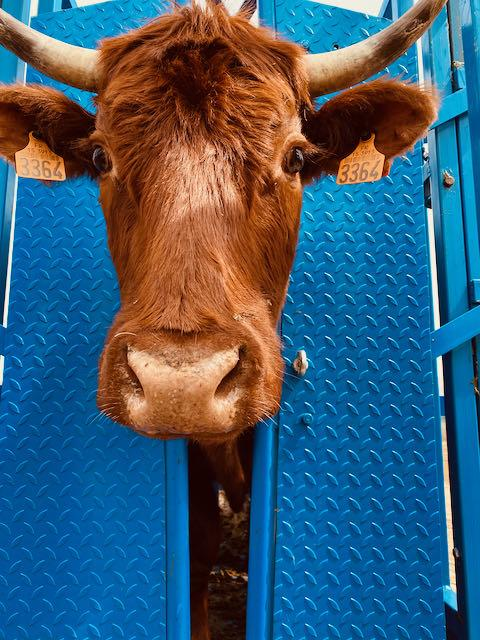muzzles: (92, 332, 291, 455)
